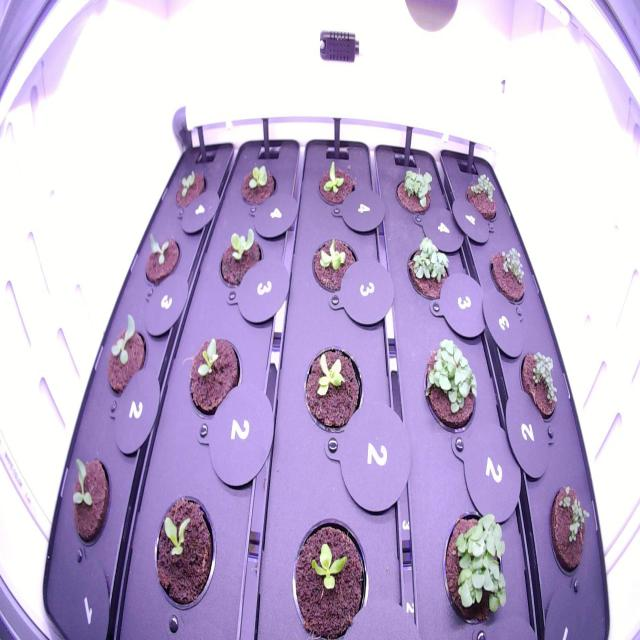germination: (548, 479, 593, 585), (518, 344, 561, 426), (487, 240, 528, 310), (462, 166, 502, 225)
young: (286, 509, 374, 639), (146, 484, 220, 620), (300, 338, 366, 441), (60, 445, 116, 550), (184, 329, 244, 423), (100, 309, 150, 403), (306, 230, 360, 302), (212, 221, 266, 291), (140, 228, 183, 292), (312, 156, 358, 214), (236, 156, 279, 211), (170, 156, 210, 215)
